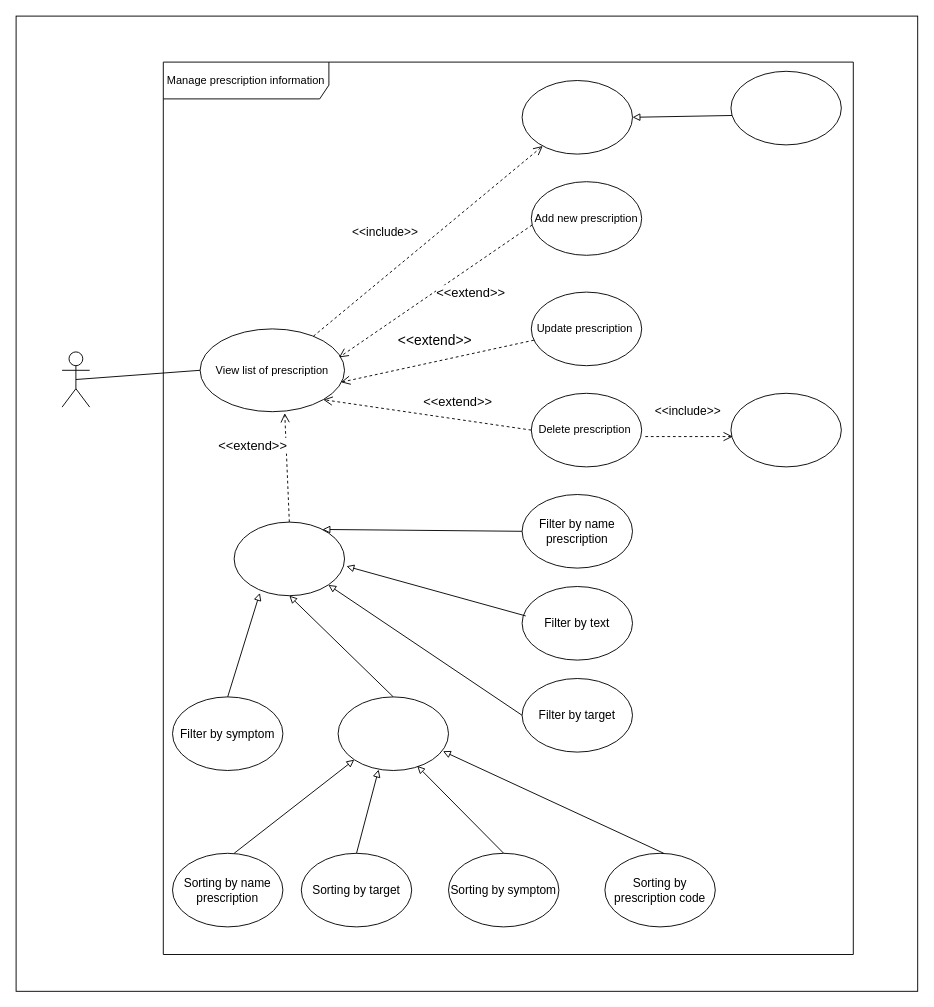
Image size: 934x1007. Some labels were removed from this diagram. The shapes that lost their labels are listed below. From the top down, each one's centre as x and y in pixels, then its label:
At [576,117]: "Log in".
At [785,107]: "Login by Facebook".
At [75,379]: "Admin/Employee".
At [785,429]: "Confirm delete".
At [289,558]: "Filter prescription".
At [392,733]: "Sorting".
